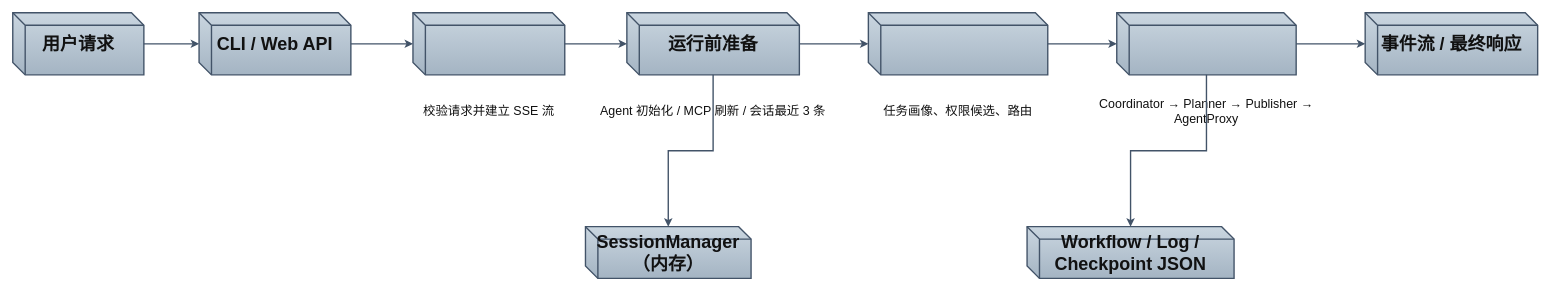
Image size: 1550x290. Some labels were removed from this diagram. Here are the shapes that lost their labels. From the top down, the box of each, then its label:
(412, 12, 565, 75): Server
(867, 12, 1048, 75): 运行 Agent 工作流
(1116, 12, 1297, 75): 工作流节点循环
